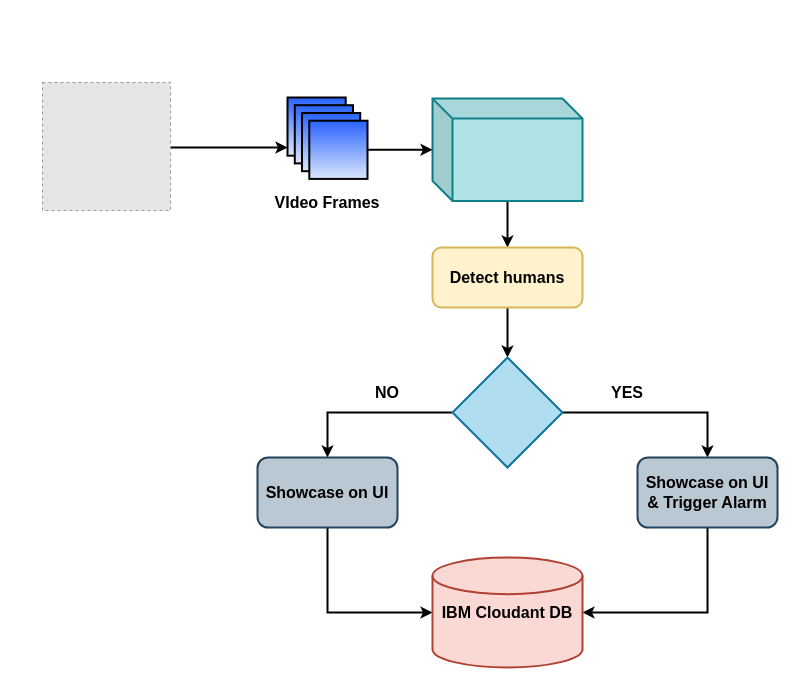
This 795x685 diagram has some shape labels left out. Grey dashed boxes stand in for pictures. Each missing label, with the box of its shape:
Drowning: (451, 356, 563, 468)
YOLOv7: (431, 97, 583, 201)
